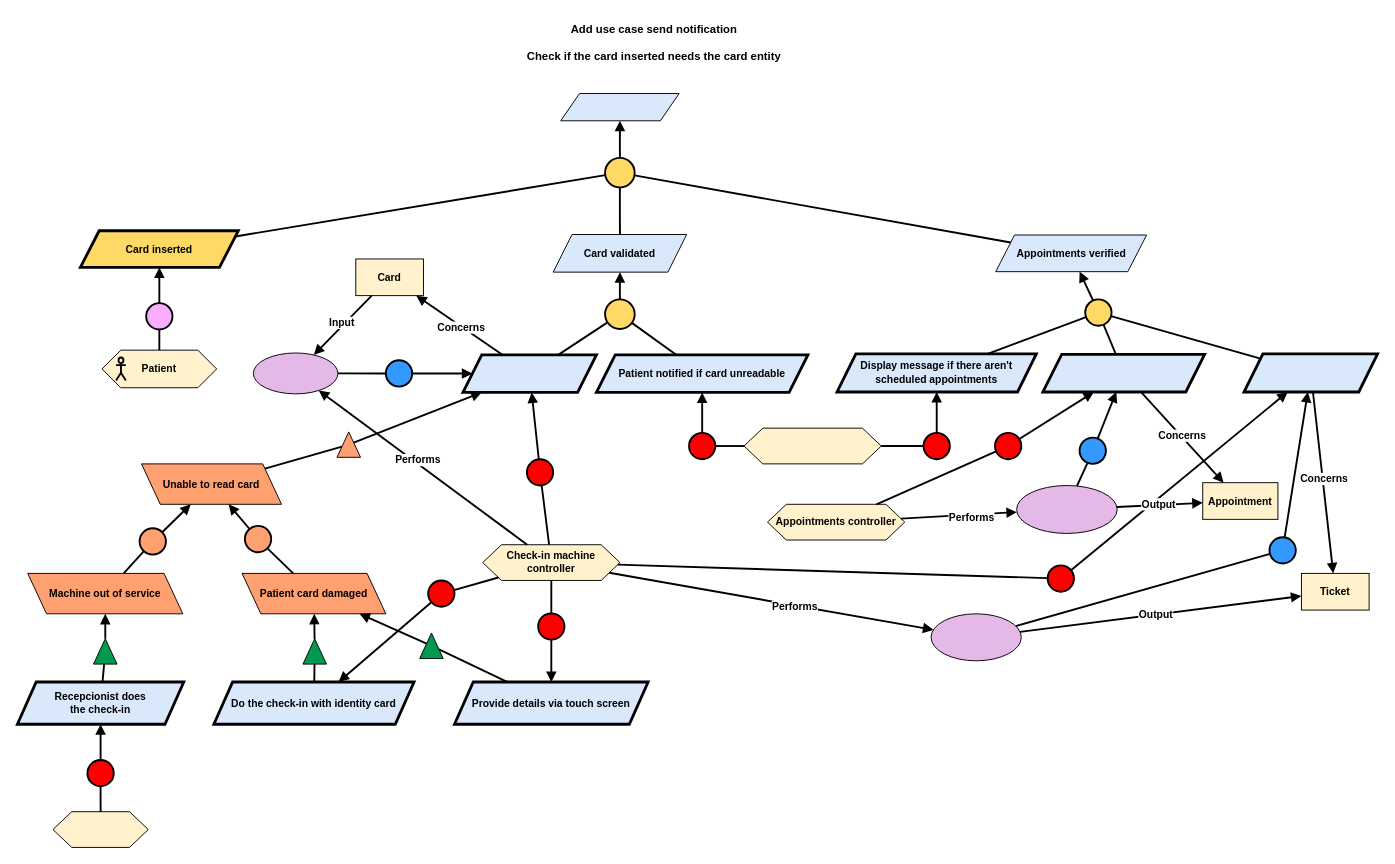
Some shapes in this 1395 by 864 pixel diagram are drawn without their labels. Here are the shapes that lost their labels. From the top down, the box of each, then its label:
(560, 93, 679, 121): Check-in
(252, 352, 338, 394): Read card
(461, 353, 597, 393): Card readable
(1041, 352, 1206, 393): Verify if has appointments
(1242, 352, 1379, 393): Ticket printed
(743, 427, 881, 464): Message controller
(1016, 485, 1117, 533): Check appointments
(930, 613, 1021, 661): Print ticket
(52, 811, 148, 847): Recepcionist
